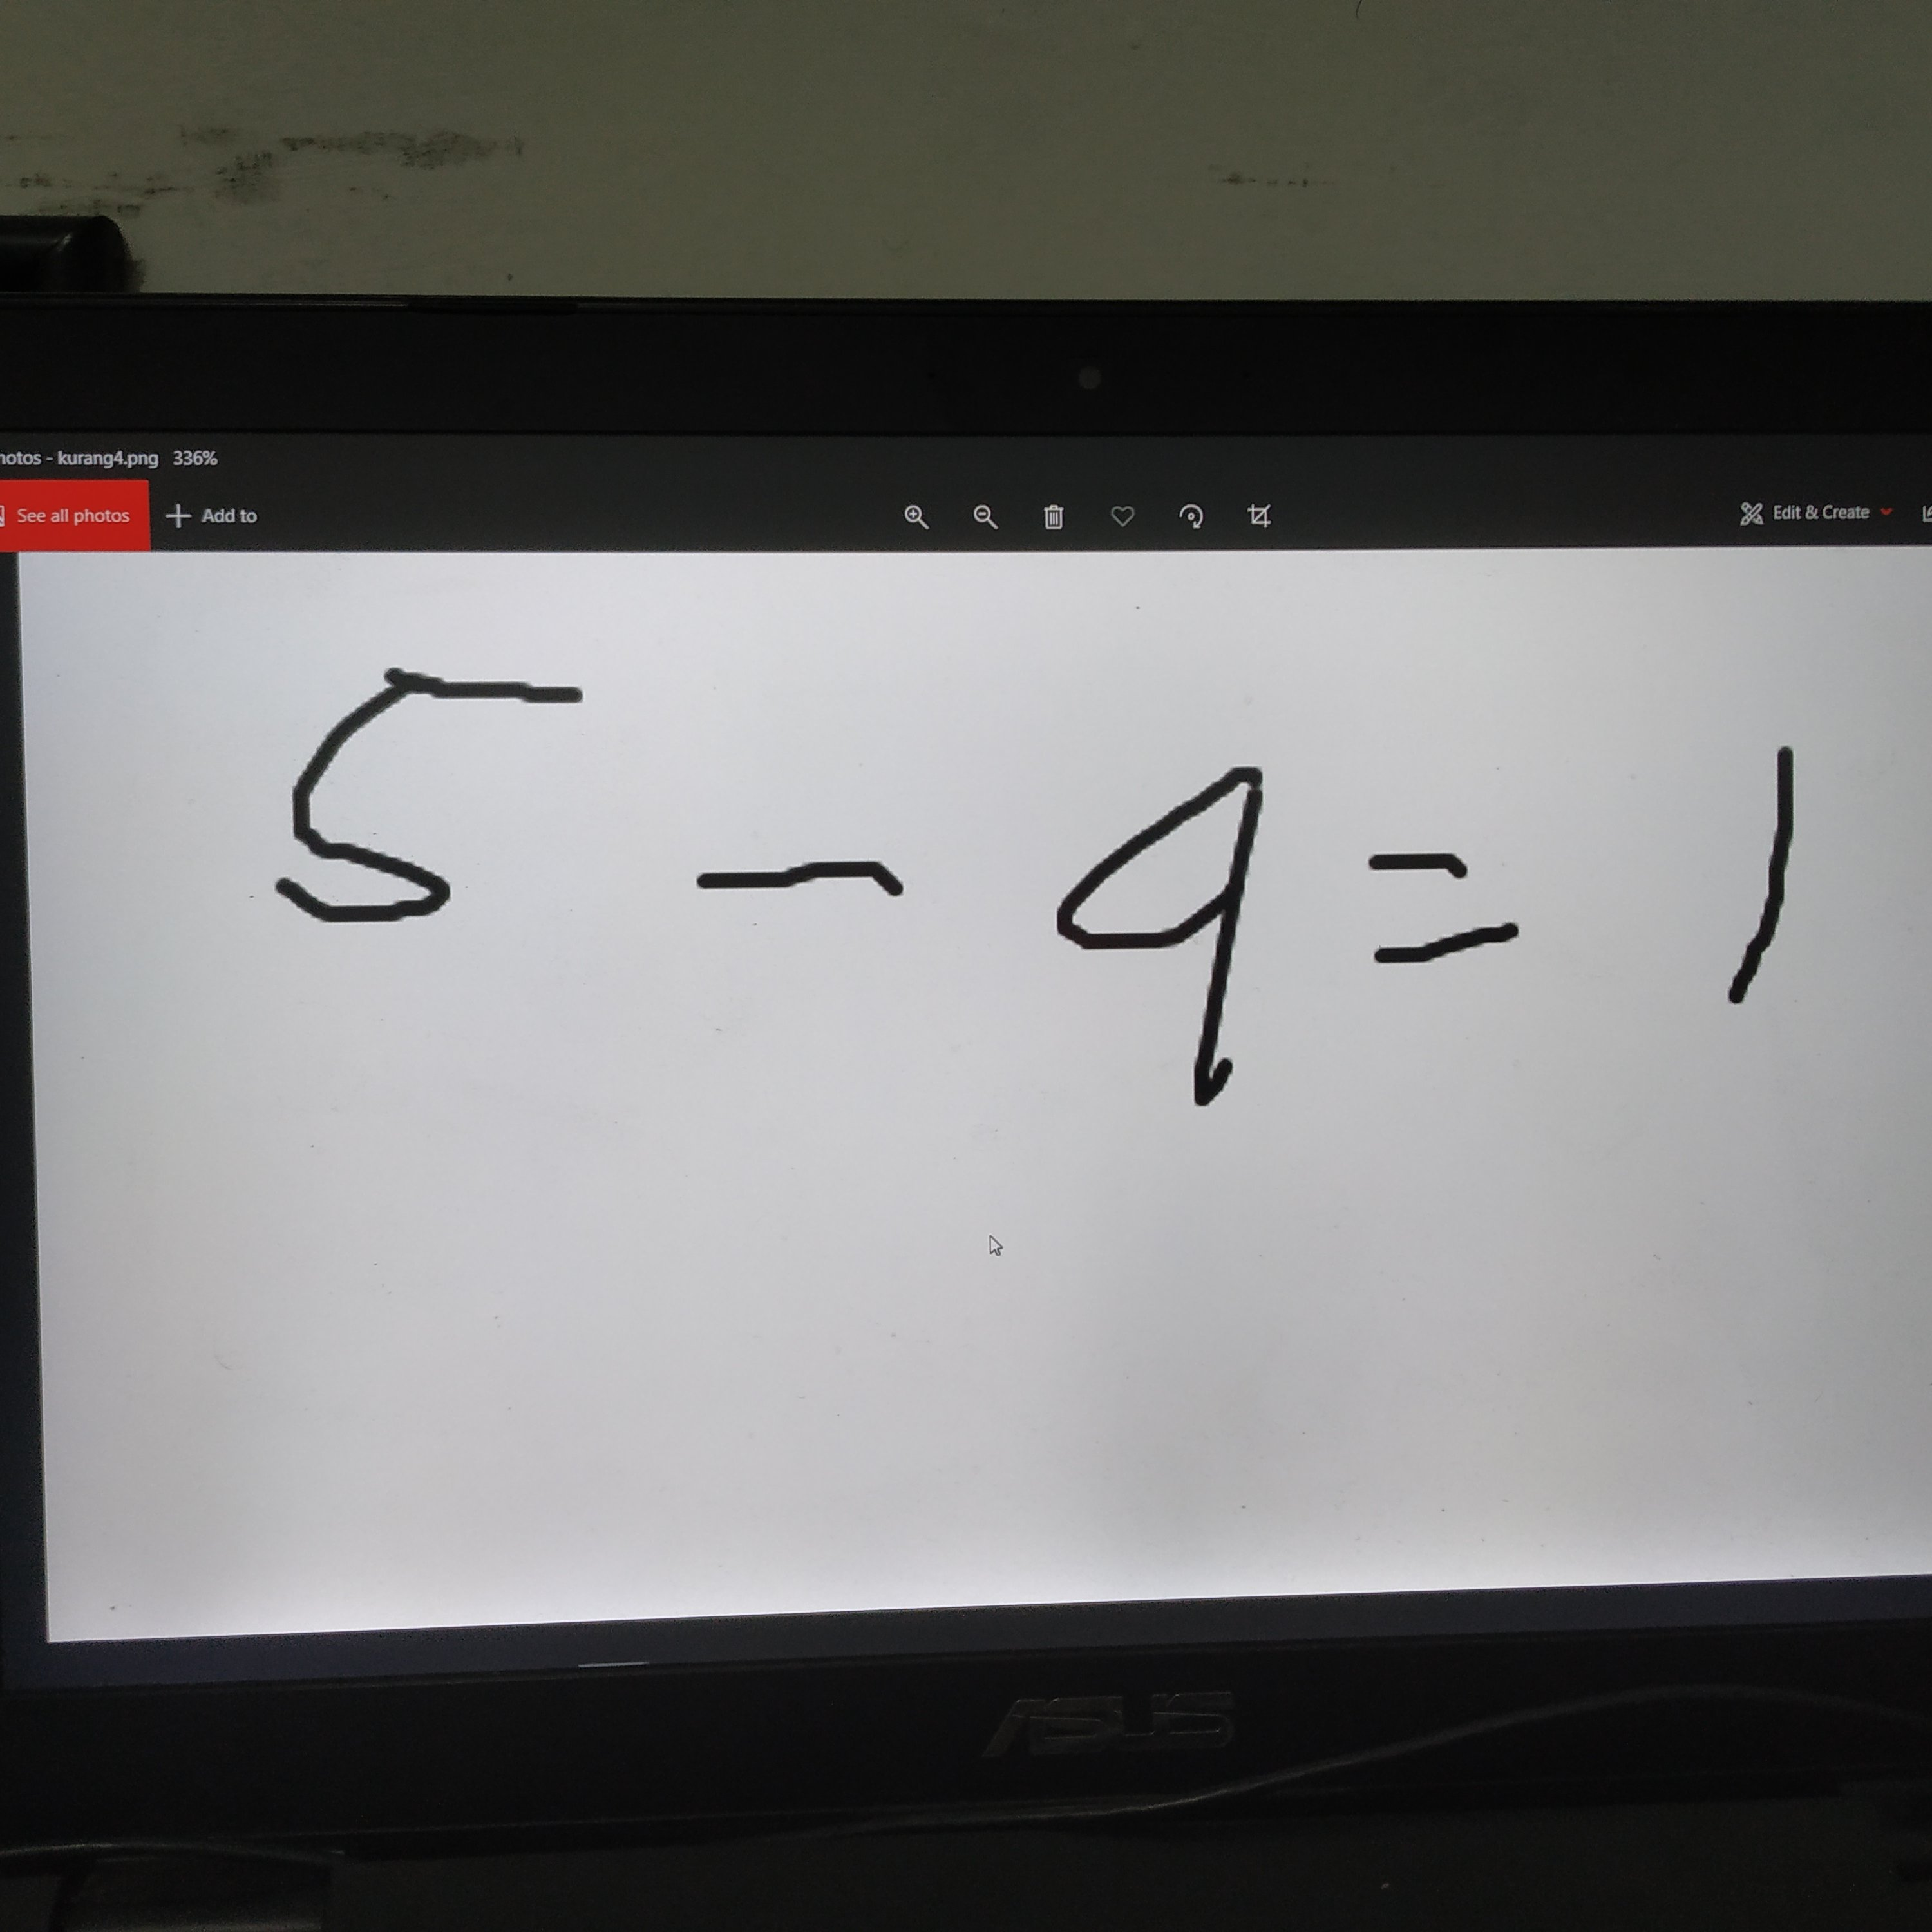equal: (1340, 835, 1575, 987)
min: (667, 841, 935, 926)
num1: (1683, 717, 1841, 1034)
num4: (1031, 744, 1301, 1128)
num5: (250, 644, 620, 956)
